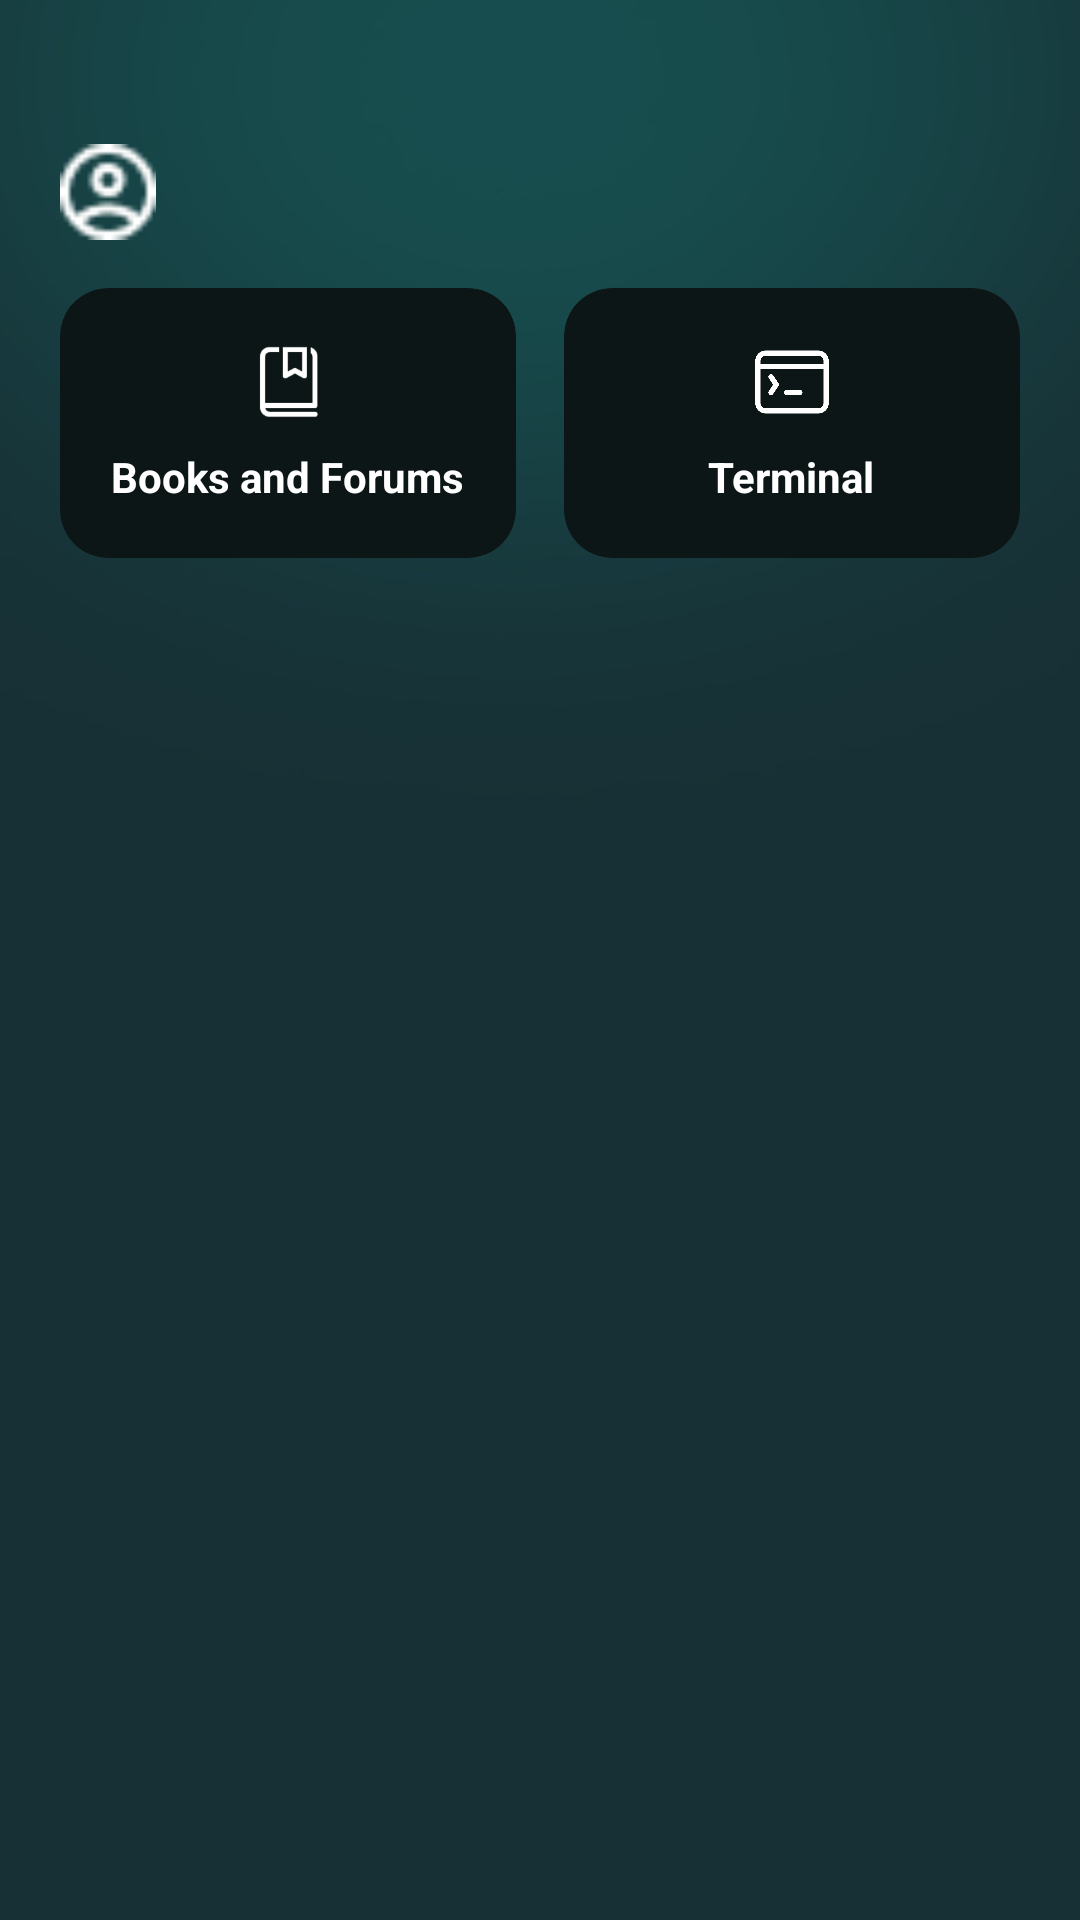

Named icons in this screenshot (1080*1920) and their centers, (x=x, y=y):
learning: (x=289, y=382)
Profile: (x=108, y=192)
